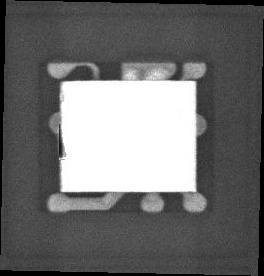DIE_BROKEN: (57, 122, 68, 160)
